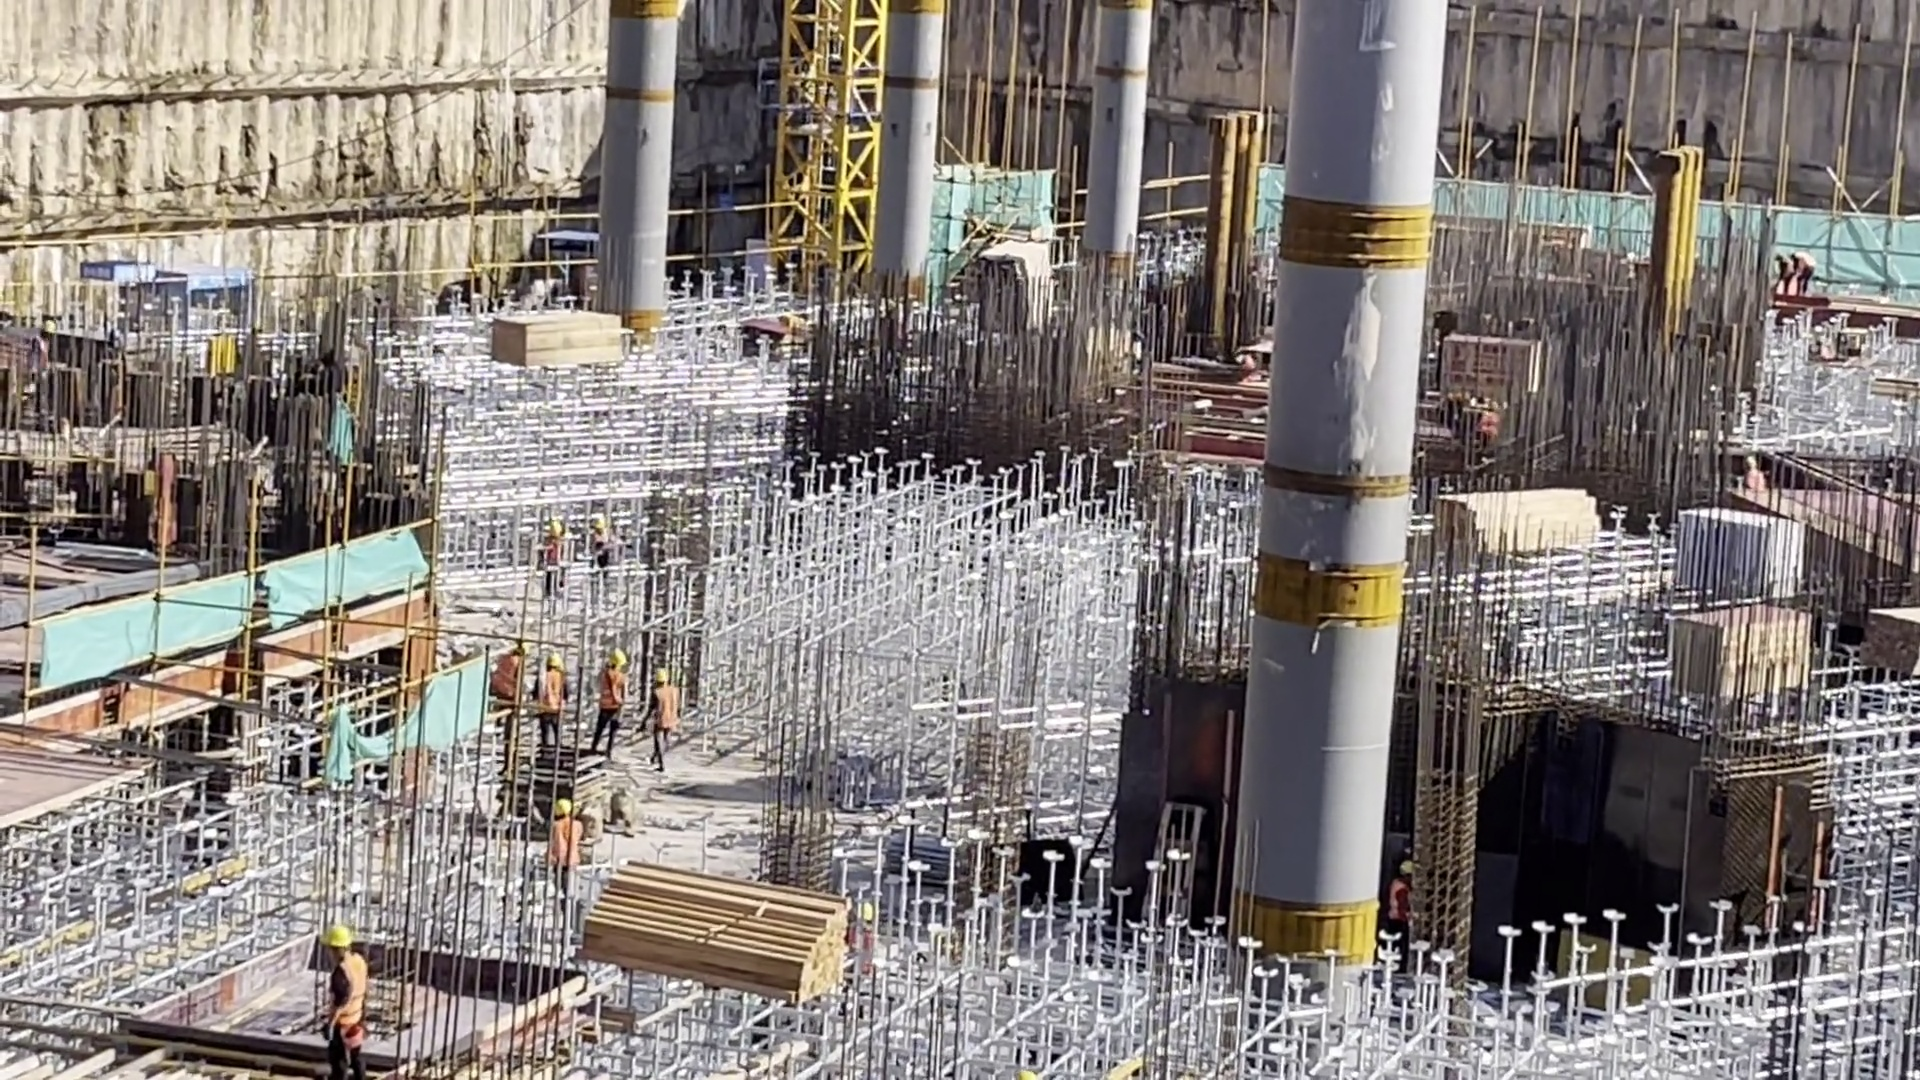board: (1661, 604, 1807, 702)
helmet: (329, 952, 367, 1047), (553, 818, 582, 874), (536, 669, 565, 719), (652, 686, 681, 734), (597, 666, 624, 714), (326, 924, 355, 949), (602, 649, 627, 666), (554, 798, 572, 819), (542, 651, 564, 667), (650, 668, 666, 689)
person: (316, 921, 364, 1080), (645, 666, 694, 774), (590, 648, 626, 757), (534, 652, 573, 749), (551, 796, 581, 900), (1383, 857, 1412, 943), (489, 642, 524, 715), (583, 510, 610, 568), (539, 520, 564, 583), (1476, 405, 1501, 457), (1788, 250, 1812, 296), (1767, 255, 1789, 298), (1735, 457, 1762, 490)
vest: (1385, 879, 1408, 926)
wood: (582, 859, 854, 1003), (1434, 487, 1603, 568), (488, 311, 629, 374), (1865, 601, 1920, 678)
